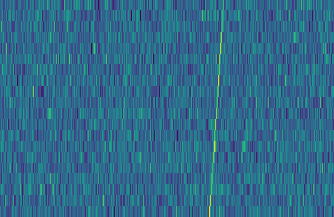signal: (205, 0, 229, 217)
